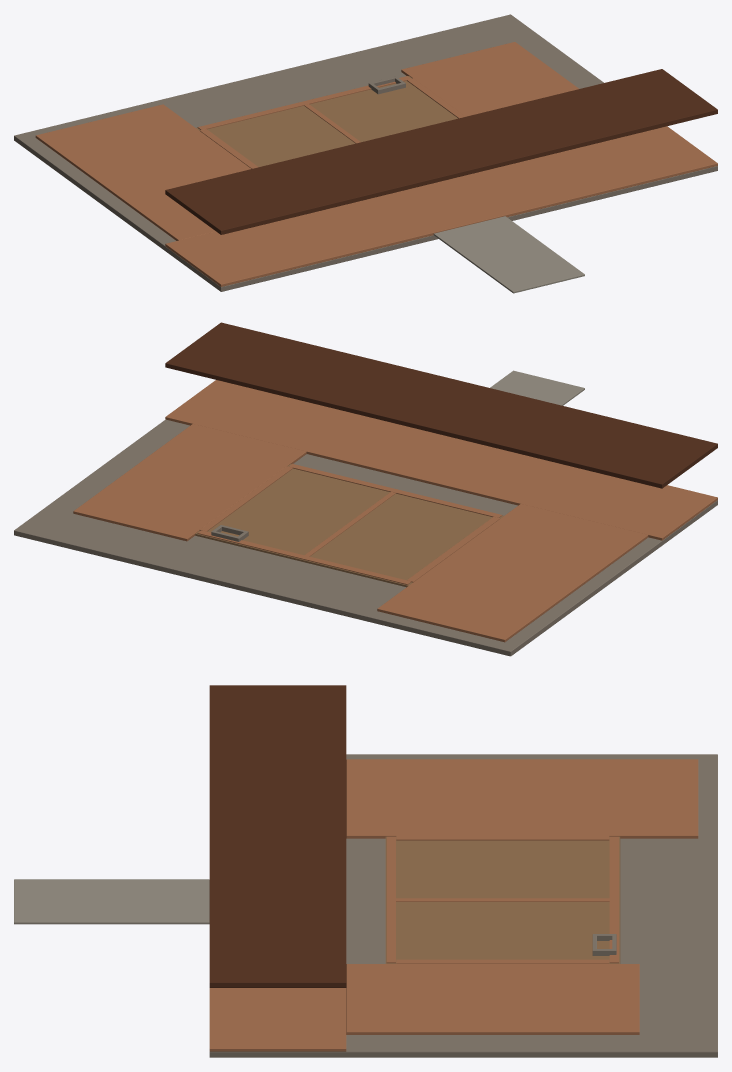
The model's file is EXP_Foundation_Floors_OriginalRestore.fbx.
3 renders of one model, top to bottom at view 1: azimuth 30°, elevation 25°; view 2: azimuth 150°, elevation 25°; view 3: azimuth 270°, elevation 25°, orthographic. The views are drawn at different scales.
Visible parts, largest first — view 1: EXP_Foundation_Floors; view 2: EXP_Foundation_Floors; view 3: EXP_Foundation_Floors.
Boxes of the visible parts, box(x1,y1,x2,y2) form: EXP_Foundation_Floors: box(14, 14, 717, 293); EXP_Foundation_Floors: box(14, 322, 717, 656); EXP_Foundation_Floors: box(14, 685, 717, 1057).
Bounding box in the file's own units: 36 × 36 × 4.25.
